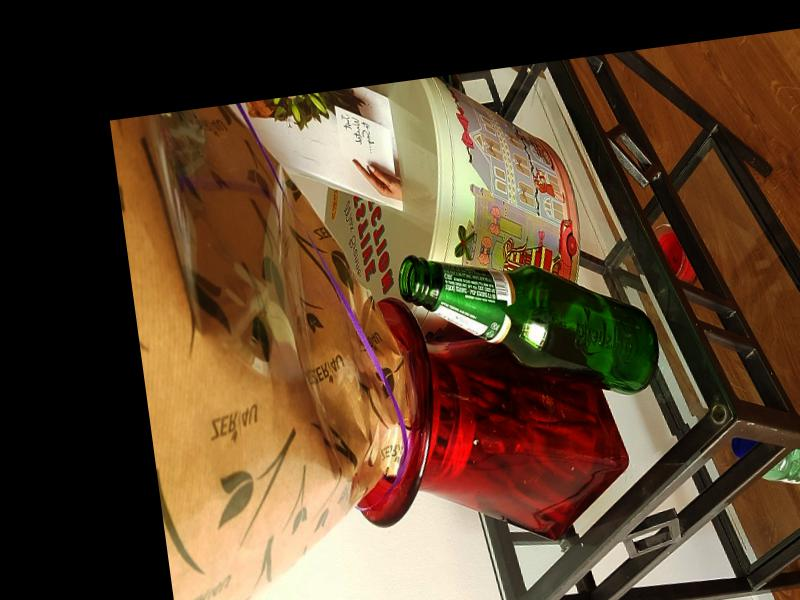Beer: (395, 227, 664, 422)
